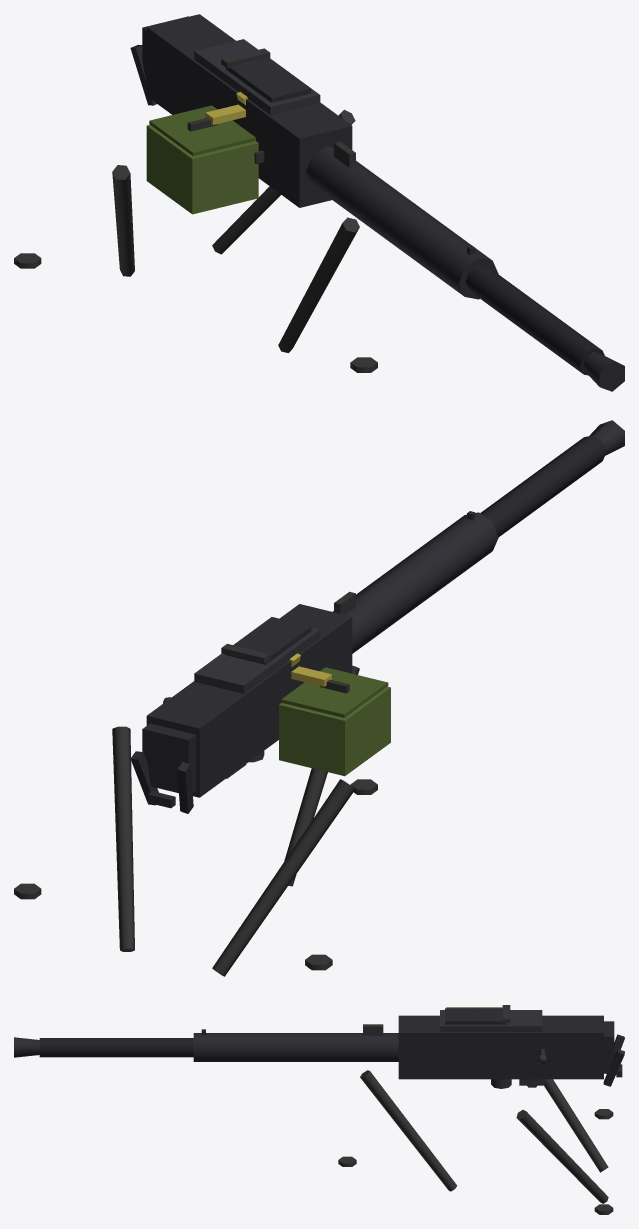
Rendered from m2-browning.glb.
3 renders of one model, top to bottom at view 1: azimuth 30°, elevation 25°; view 2: azimuth 150°, elevation 25°; view 3: azimuth 270°, elevation 25°, orthographic. The views are drawn at different scales.
Visible parts, largest first — view 1: Mesh_Receiver, Mesh_BarrelJacket, Mesh_AmmoBox, Mesh_Barrel, Mesh_AmmoBoxLid, Mesh_FrontLeg, Mesh_TopCover, Mesh_FeedTray, Mesh_LeftRearLeg, Mesh_RightRearLeg, Mesh_FlashHider, Mesh_AmmoBelt; view 2: Mesh_Receiver, Mesh_BarrelJacket, Mesh_AmmoBox, Mesh_Barrel, Mesh_LeftRearLeg, Mesh_RightRearLeg, Mesh_BackPlate, Mesh_AmmoBoxLid, Mesh_TopCover, Mesh_FeedTray, Mesh_FrontLeg; view 3: Mesh_Receiver, Mesh_BarrelJacket, Mesh_Barrel, Mesh_FrontLeg, Mesh_RightRearLeg, Mesh_TopCover, Mesh_LeftRearLeg, Mesh_FeedTray, Mesh_BackPlate, Mesh_FlashHider, Mesh_RightSpadeGrip.
Part boxes in pixels (box(x1,y1,x2,y2)): Mesh_Receiver: box(146, 14, 352, 207); Mesh_BarrelJacket: box(306, 146, 498, 299); Mesh_AmmoBox: box(146, 125, 258, 214); Mesh_Barrel: box(465, 265, 604, 375); Mesh_AmmoBoxLid: box(149, 105, 255, 156); Mesh_FrontLeg: box(278, 217, 359, 352); Mesh_TopCover: box(194, 39, 320, 115); Mesh_FeedTray: box(226, 57, 311, 102); Mesh_LeftRearLeg: box(112, 165, 134, 276); Mesh_RightRearLeg: box(212, 109, 355, 254); Mesh_FlashHider: box(584, 351, 624, 391); Mesh_AmmoBelt: box(205, 104, 245, 124); Mesh_Receiver: box(146, 604, 352, 797); Mesh_BarrelJacket: box(332, 512, 498, 653); Mesh_AmmoBox: box(279, 686, 390, 776); Mesh_Barrel: box(480, 435, 606, 537); Mesh_LeftRearLeg: box(212, 779, 355, 976); Mesh_RightRearLeg: box(112, 726, 134, 951); Mesh_BackPlate: box(142, 723, 196, 795); Mesh_AmmoBoxLid: box(281, 667, 388, 717); Mesh_TopCover: box(194, 627, 320, 693); Mesh_FeedTray: box(226, 617, 311, 664); Mesh_FrontLeg: box(284, 665, 359, 886); Mesh_Receiver: box(398, 1015, 603, 1079); Mesh_BarrelJacket: box(193, 1033, 398, 1061); Mesh_Barrel: box(39, 1038, 193, 1057); Mesh_FrontLeg: box(360, 1070, 457, 1191); Mesh_RightRearLeg: box(516, 1110, 608, 1203); Mesh_TopCover: box(440, 1010, 542, 1031); Mesh_LeftRearLeg: box(544, 1079, 608, 1172); Mesh_FeedTray: box(445, 1008, 506, 1024); Mesh_BackPlate: box(604, 1021, 614, 1073); Mesh_FlashHider: box(14, 1037, 39, 1057); Mesh_RightSpadeGrip: box(603, 1049, 624, 1086).
Size of the model in its own units: 0.4712 by 0.3846 by 1.19.
